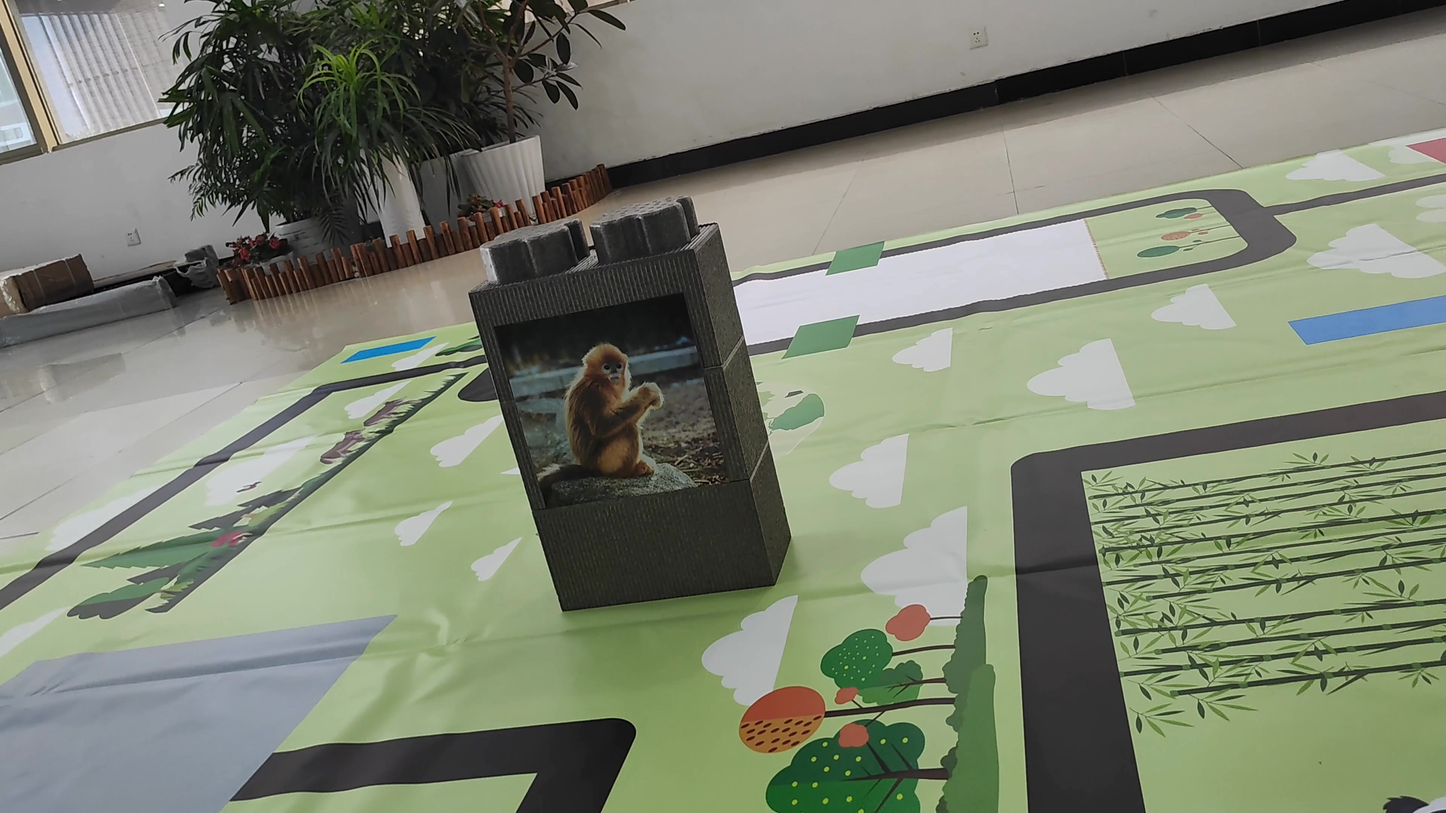monkey: (516, 319, 703, 495)
